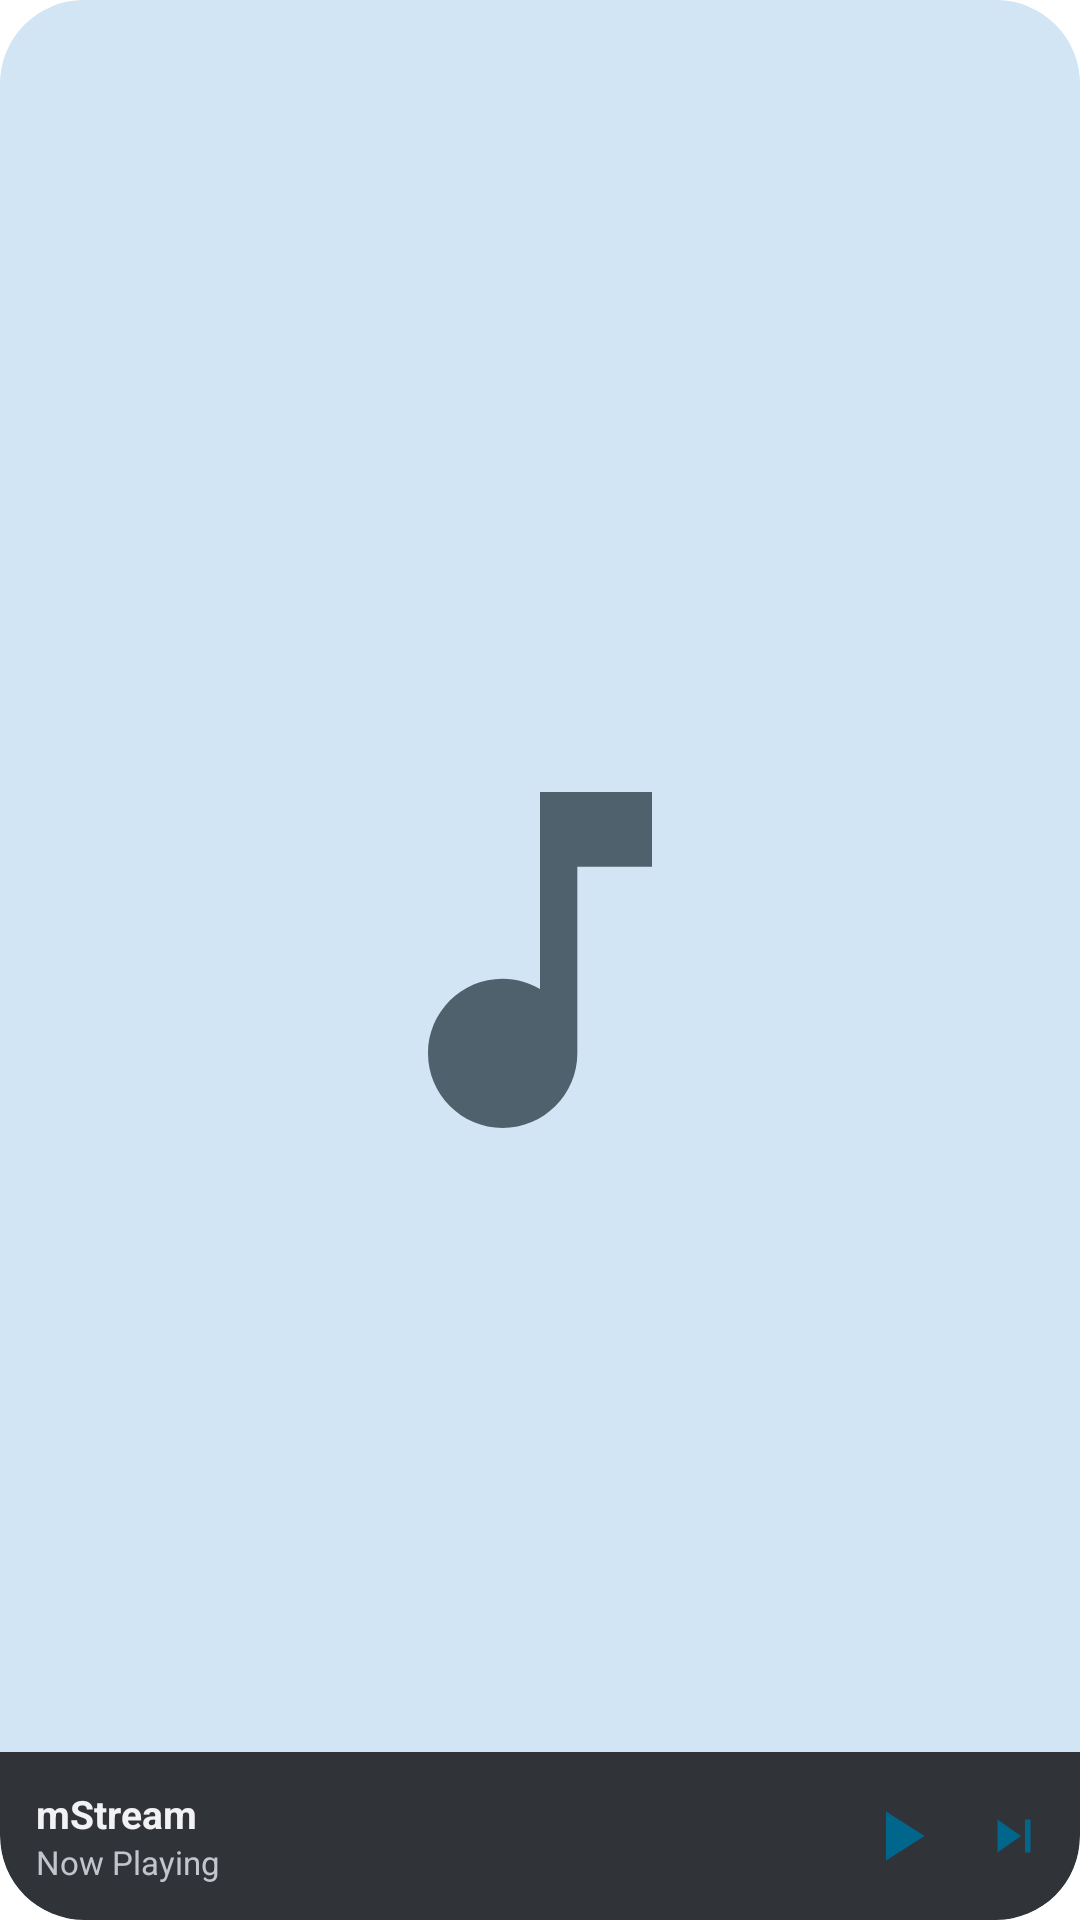

Where icons sit on this 1080*1920 app screen, as (x1, y1, x2, y2):
Next track: (997, 1819, 1031, 1853)
